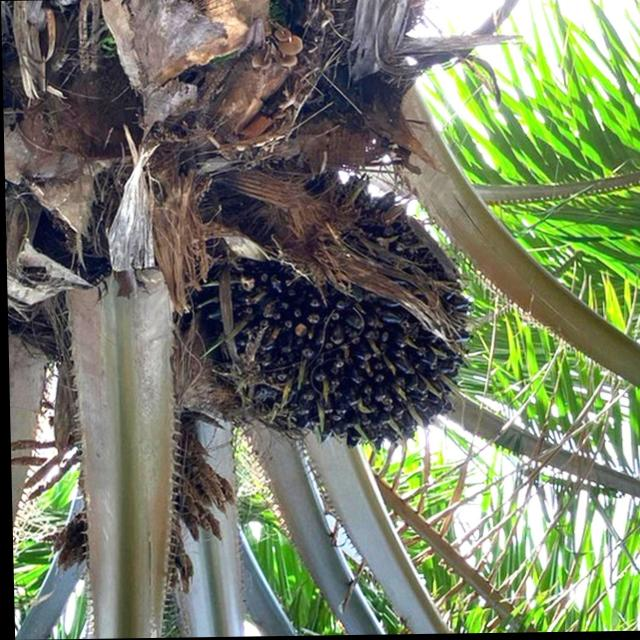unripe: (227, 204, 457, 451)
